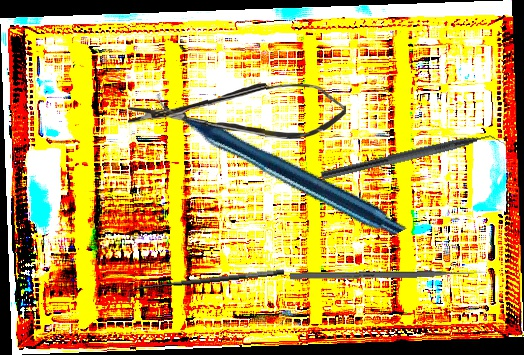Chopper: (319, 125, 511, 193)
Handpiece: (154, 21, 408, 303)
Hook Surgical: (125, 266, 286, 304)
Micro Scissor: (127, 81, 347, 140)
Pusher: (289, 269, 487, 280)
